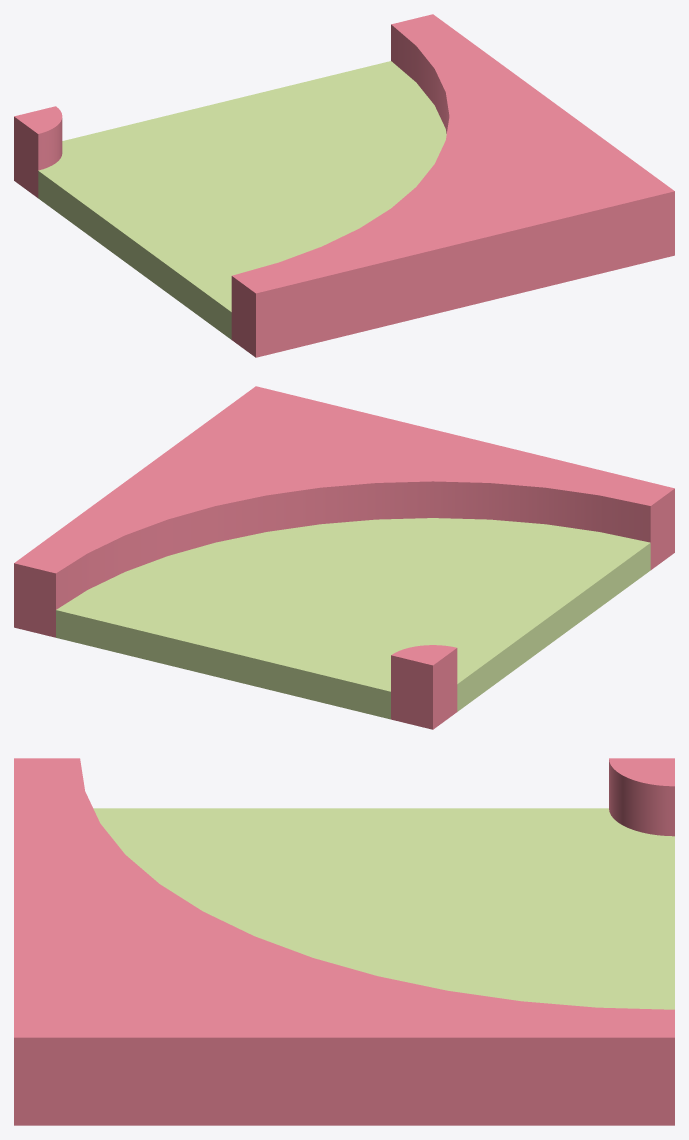
File: roundCornerB.fbx
3 renders of one model, top to bottom at view 1: azimuth 30°, elevation 25°; view 2: azimuth 150°, elevation 25°; view 3: azimuth 270°, elevation 25°, orthographic. The views are drawn at different scales.
Parts seen in each view (by area): view 1: roundCornerB; view 2: roundCornerB; view 3: roundCornerB.
Boxes of the visible parts, left/top/right/bottom form: roundCornerB: left=14, top=14, right=674, bottom=357; roundCornerB: left=14, top=386, right=674, bottom=729; roundCornerB: left=14, top=758, right=674, bottom=1125.
Size of the model in its own units: 99.99 by 14.67 by 99.99.
